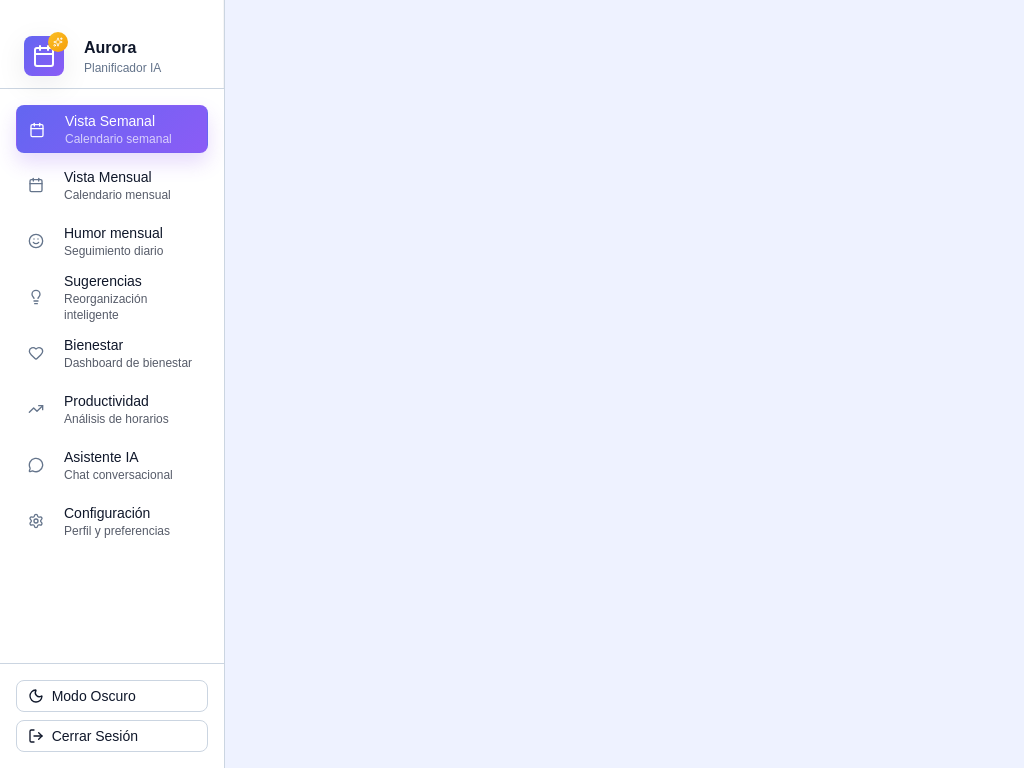
Test: Navigation - Theme Toggle with Backend Sync (PLAN-130) › debería cambiar el tema y guardarlo en el backend al hacer clic
Note: Click theme toggle button
Click the button "Modo Oscuro". click: (112, 696)
box: [16,680,208,712]
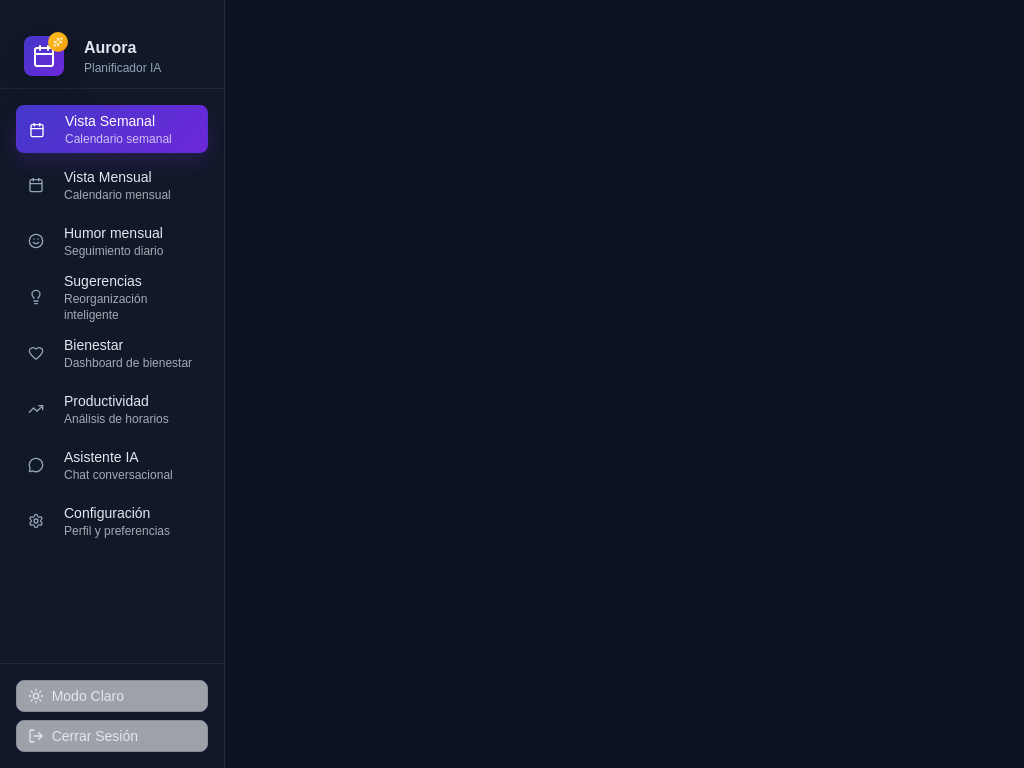
Check: the text "Modo Claro" is shown, box [52,686,124,706]
